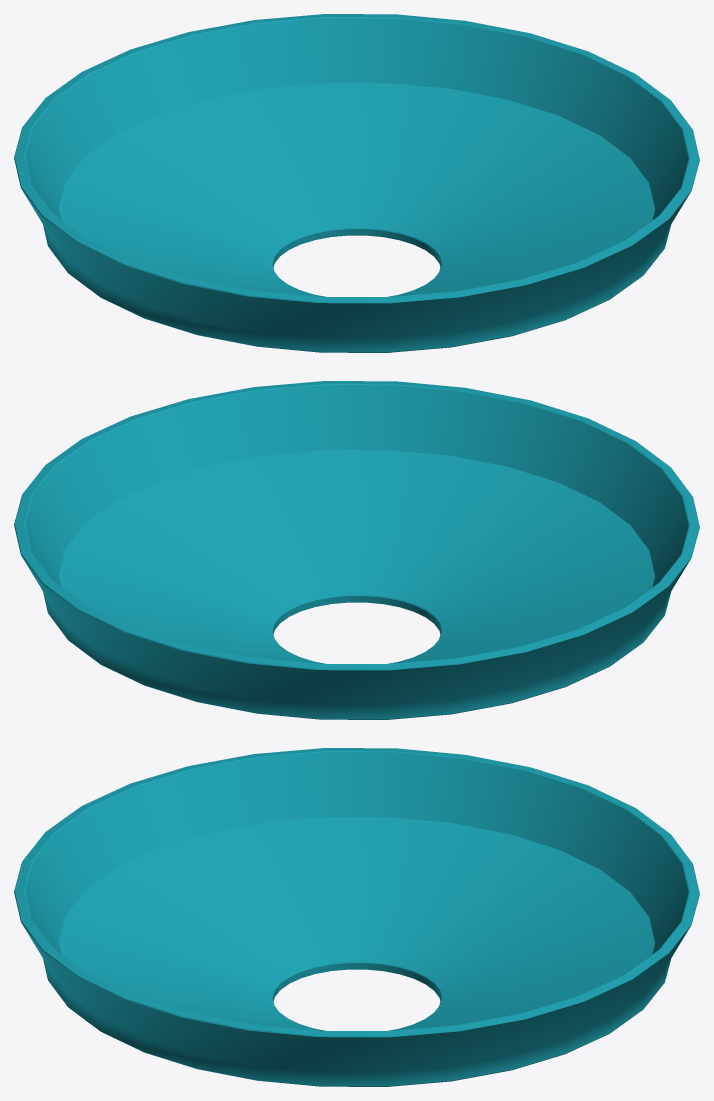
Rendered from Tank.fbx.
3 renders of one model, top to bottom at view 1: azimuth 30°, elevation 25°; view 2: azimuth 150°, elevation 25°; view 3: azimuth 270°, elevation 25°, orthographic.
Parts seen in each view (by area): view 1: Tank; view 2: Tank; view 3: Tank.
Part boxes in pixels (<box>): Tank: <box>14,14,699,352</box>; Tank: <box>14,381,699,719</box>; Tank: <box>14,748,699,1086</box>.
Bounding box in the file's own units: 15.64 × 2.88 × 15.71.
